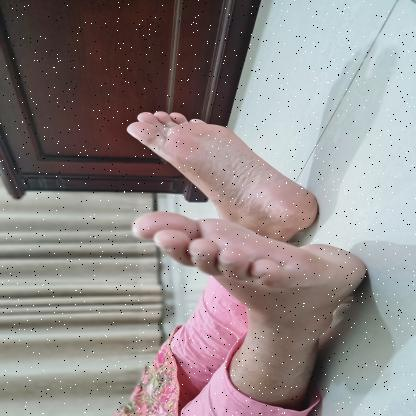leg: (123, 203, 379, 402), (117, 98, 334, 244)
